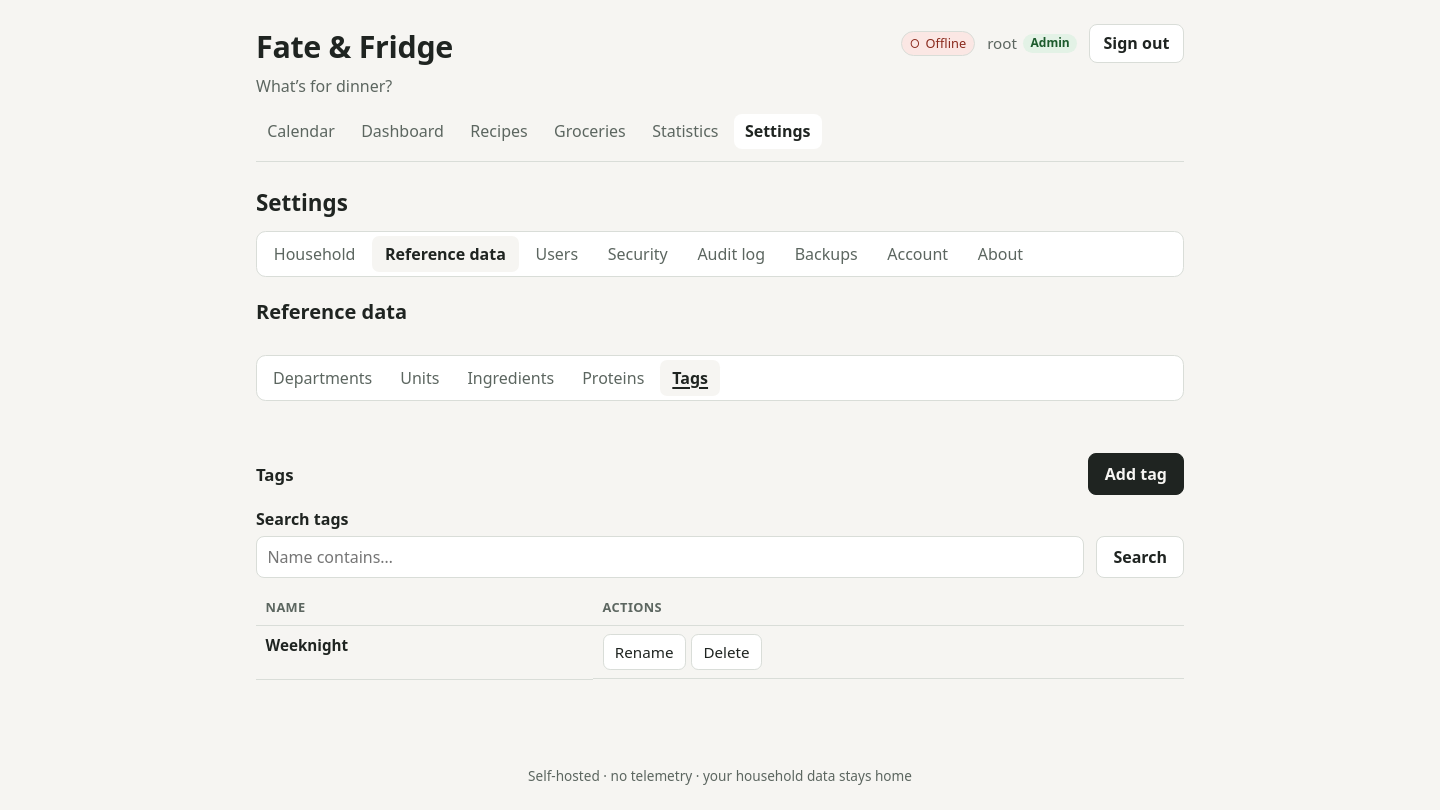
Test: tags tab › keeps the delete dialog open with the TAG_IN_USE usage count
The width and height of the screenshot is (1440, 810).
Click the button with aria-label "Delete Weeknight" at (727, 652), box left=691, top=634, right=762, bottom=670
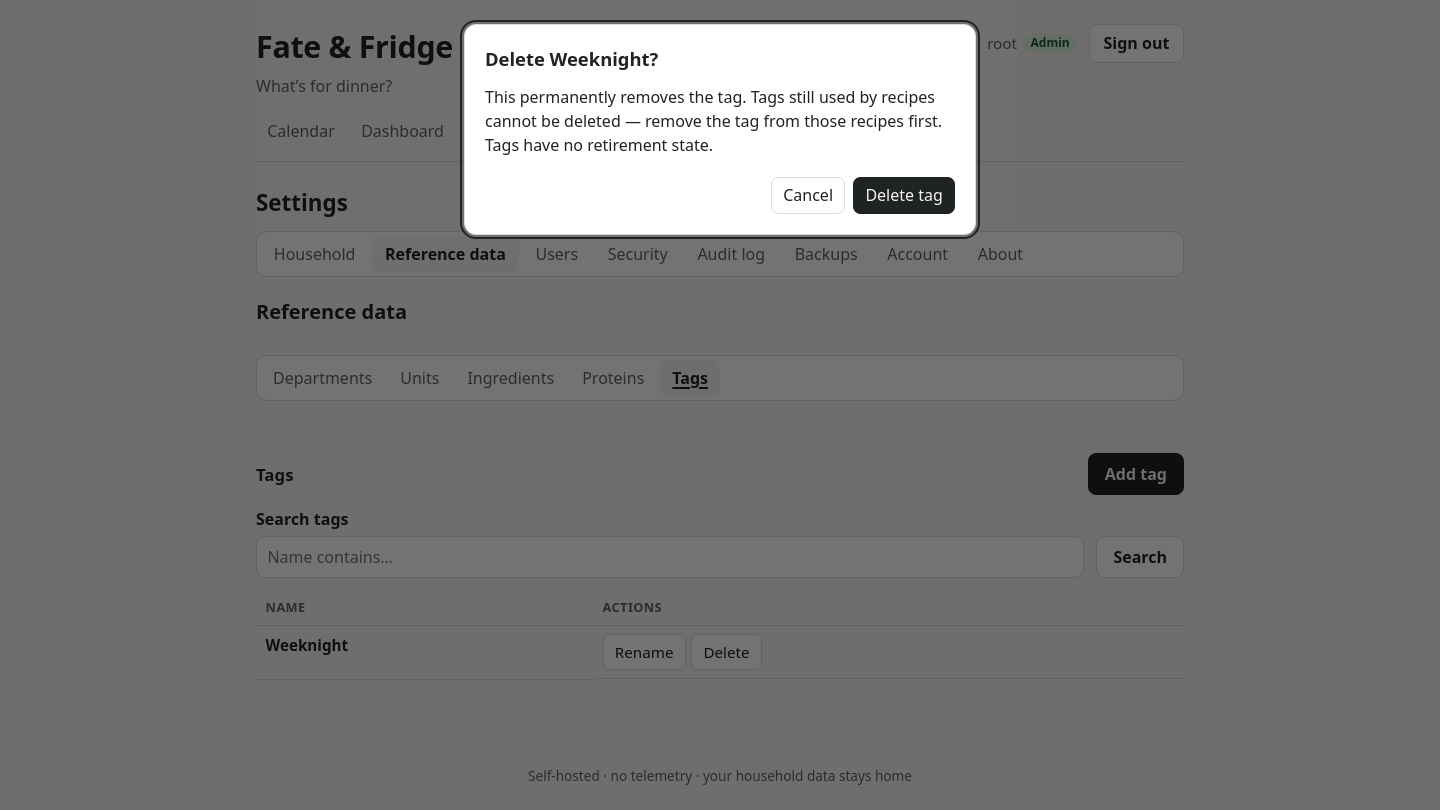
Click the button "Delete tag" at (904, 195), box left=853, top=177, right=955, bottom=214
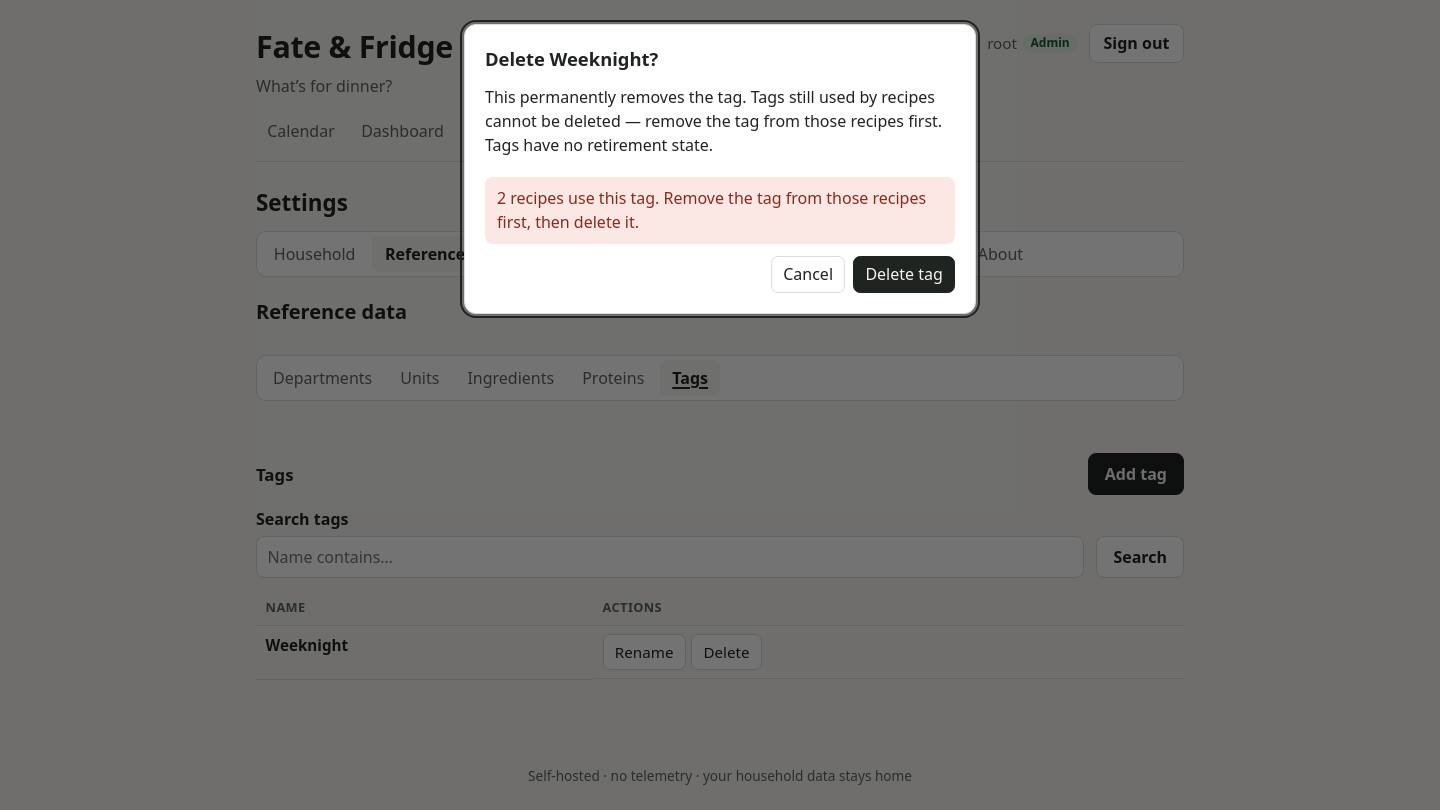
Check: the dialog "Delete Weeknight?" is shown, box left=464, top=24, right=976, bottom=314
Check: the message reads "2 recipes use this tag. Remove the tag from those recipes first, then delete it.", box left=497, top=187, right=926, bottom=233
